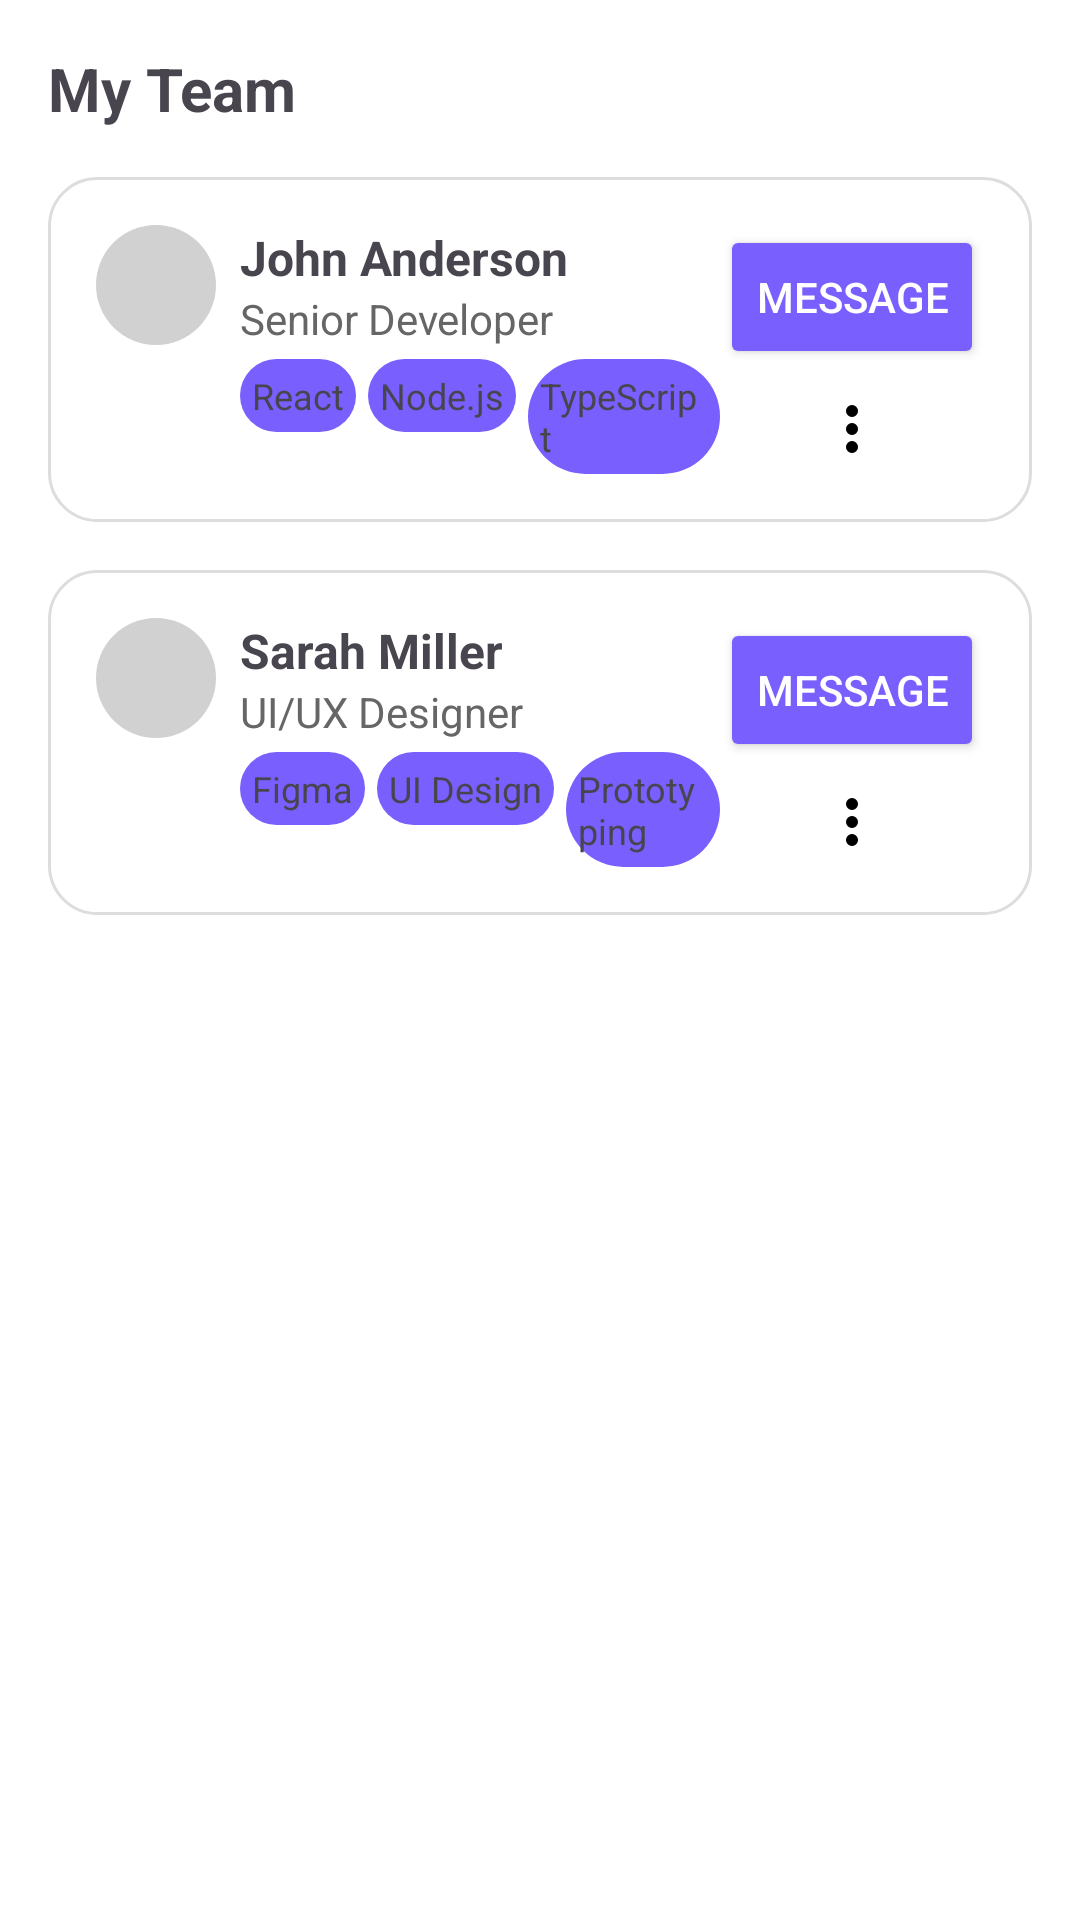

Named icons in this screenshot (1080px x 1920px) and their centers, [x,y]:
more vert: [852,429], [852,822]
